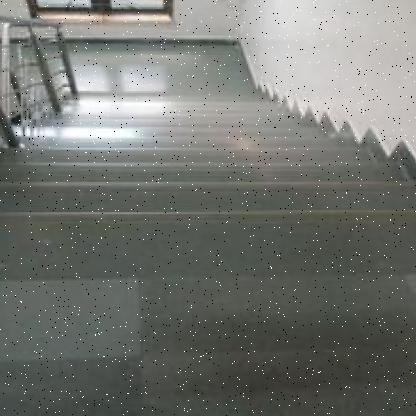stair_down: (26, 108, 388, 245)
